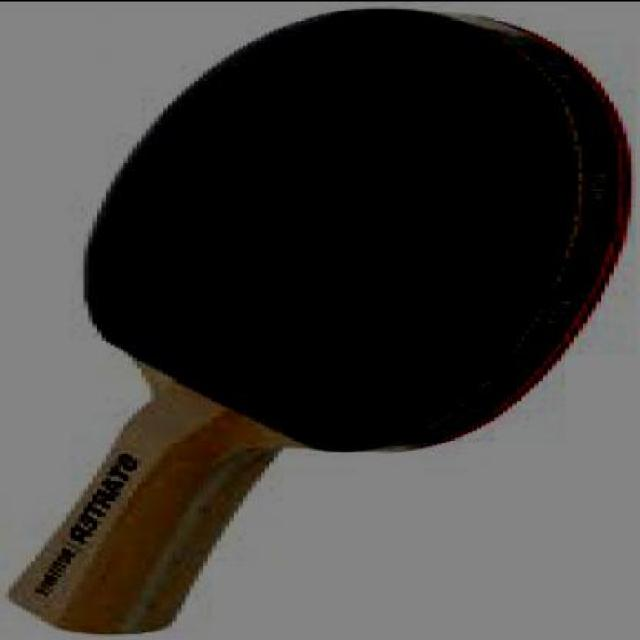table_tennis_racket: (56, 1, 638, 452)
